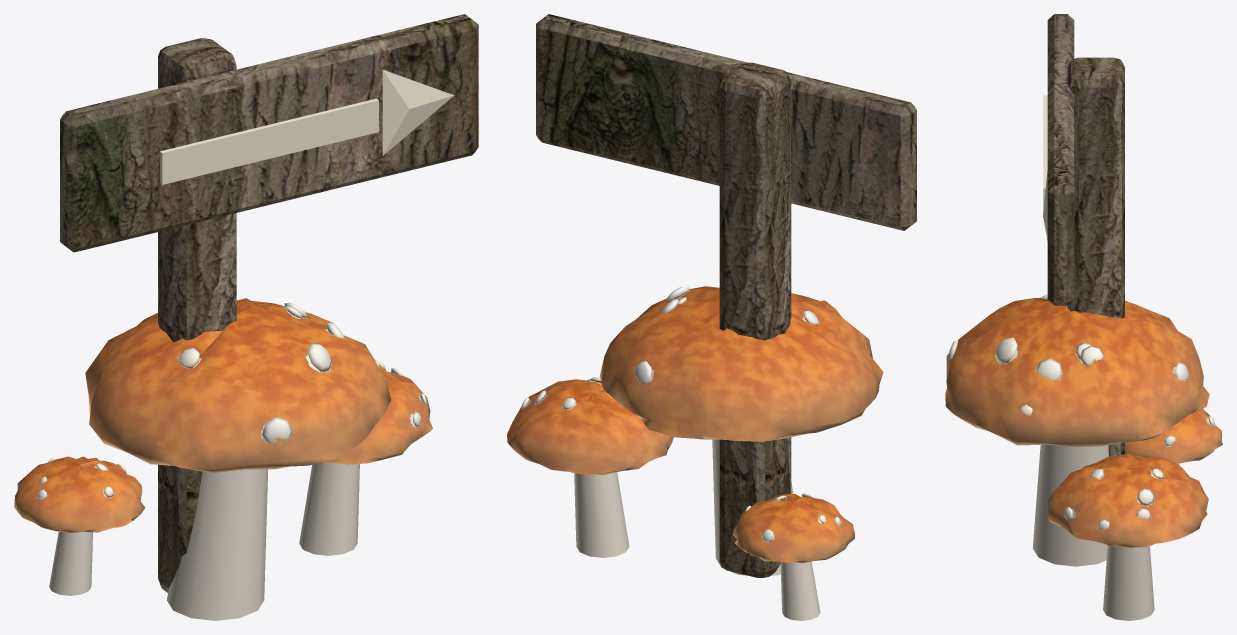
Rendered from props.glb.
3 views of the same model, side by side, from view 1: azimuth 30°, elevation 25°; view 2: azimuth 150°, elevation 25°; view 3: azimuth 270°, elevation 25° (orthographic). The views are drawn at different scales.
Visible parts, largest first — view 1: signpost, mushroom_cluster; view 2: signpost, mushroom_cluster; view 3: mushroom_cluster, signpost.
Boxes of the visible parts, <box> form: signpost: <box>60,14,478,592</box>; mushroom_cluster: <box>14,298,432,620</box>; signpost: <box>536,14,916,577</box>; mushroom_cluster: <box>507,286,883,620</box>; mushroom_cluster: <box>945,294,1222,620</box>; signpost: <box>1043,14,1124,456</box>.
Bounding box in the file's own units: 0.9501 × 1.2 × 0.6291.
3 materials, 2 textured.
